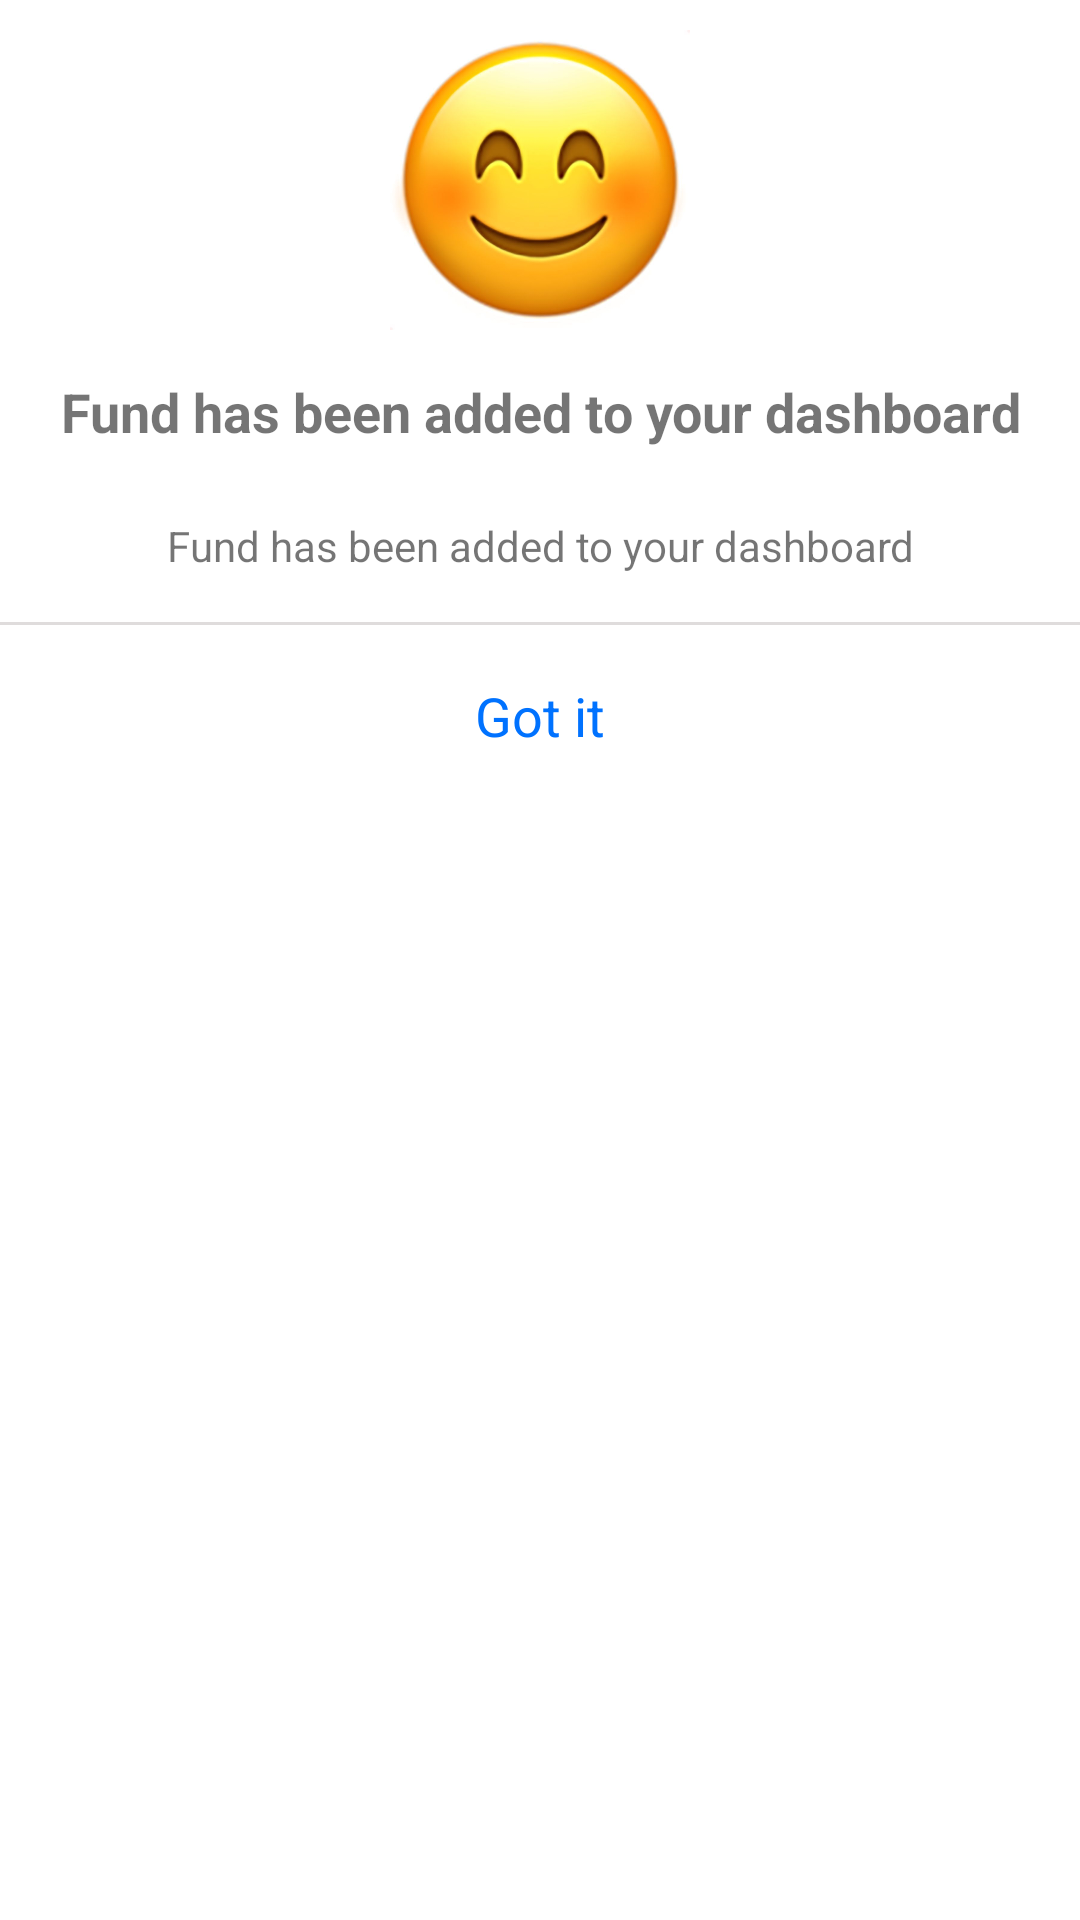

Icon click points for this 1080x1920 phone screenshot, format (x,y):
smile: (539,180)
